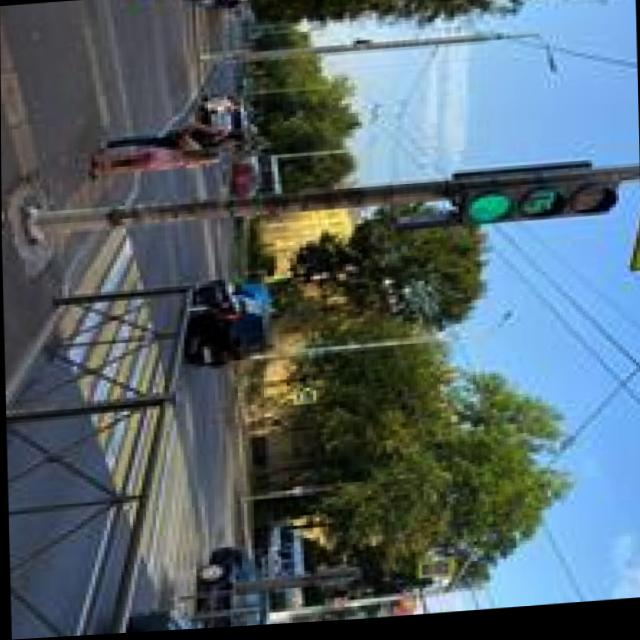green_light: (441, 158, 517, 243)
